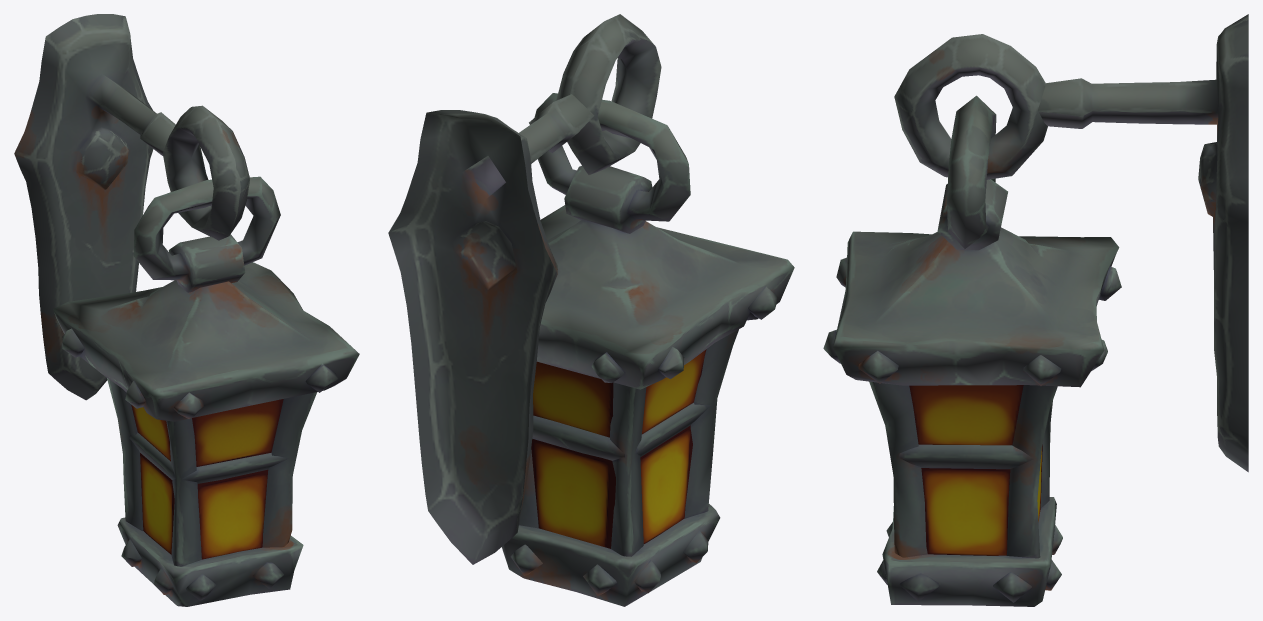
File: SM_FW01_Lantern_Wall_01.fbx
The picture shows the model from 3 angles, left to right: view 1: azimuth 30°, elevation 25°; view 2: azimuth 150°, elevation 25°; view 3: azimuth 270°, elevation 25°; orthographic projection. The views are drawn at different scales.
Visible parts, largest first — view 1: SM_FW01_Lantern_Wall_01_LOD0; view 2: SM_FW01_Lantern_Wall_01_LOD0; view 3: SM_FW01_Lantern_Wall_01_LOD0.
Boxes of the visible parts, x1,y1,x2,y2 form: SM_FW01_Lantern_Wall_01_LOD0: (14, 14, 359, 606); SM_FW01_Lantern_Wall_01_LOD0: (388, 14, 794, 606); SM_FW01_Lantern_Wall_01_LOD0: (823, 14, 1248, 606).
Size of what is drawn, in the model's own units: 0.3736 by 0.763 by 0.5324.
